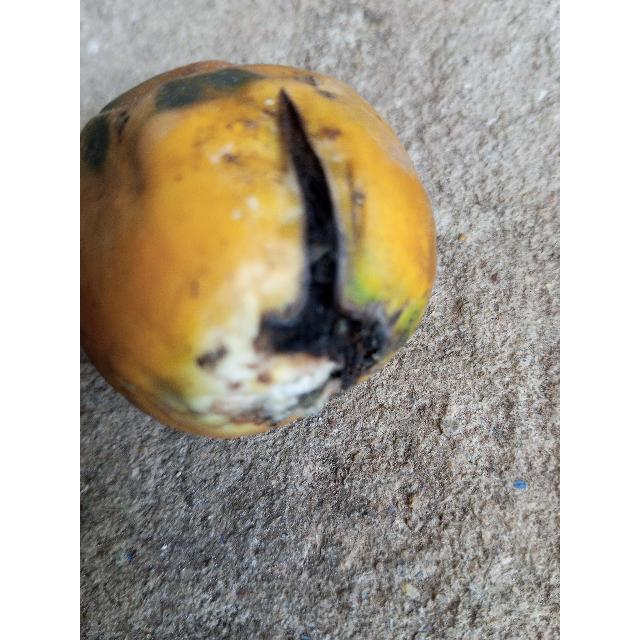damaged: (80, 61, 436, 437)
